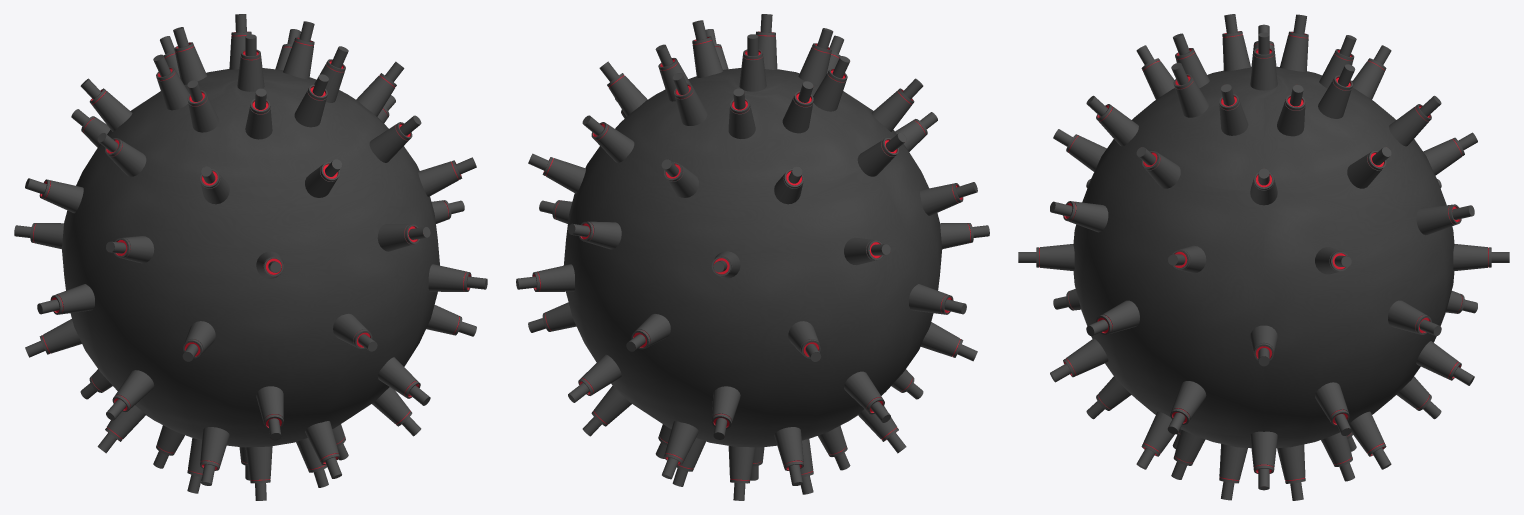
File: SpaceMineLevel2FBX.fbx
The picture shows the model from 3 angles, left to right: view 1: azimuth 30°, elevation 25°; view 2: azimuth 150°, elevation 25°; view 3: azimuth 270°, elevation 25°; orthographic projection.
Visible parts, largest first — view 1: polySurface120; view 2: polySurface120; view 3: polySurface120.
Part boxes in pixels (box(x1,y1,x2,y2)): polySurface120: box(14, 14, 487, 500); polySurface120: box(516, 14, 989, 500); polySurface120: box(1018, 14, 1509, 500).
Bounding box in the file's own units: 9.84 × 9.84 × 9.84.
